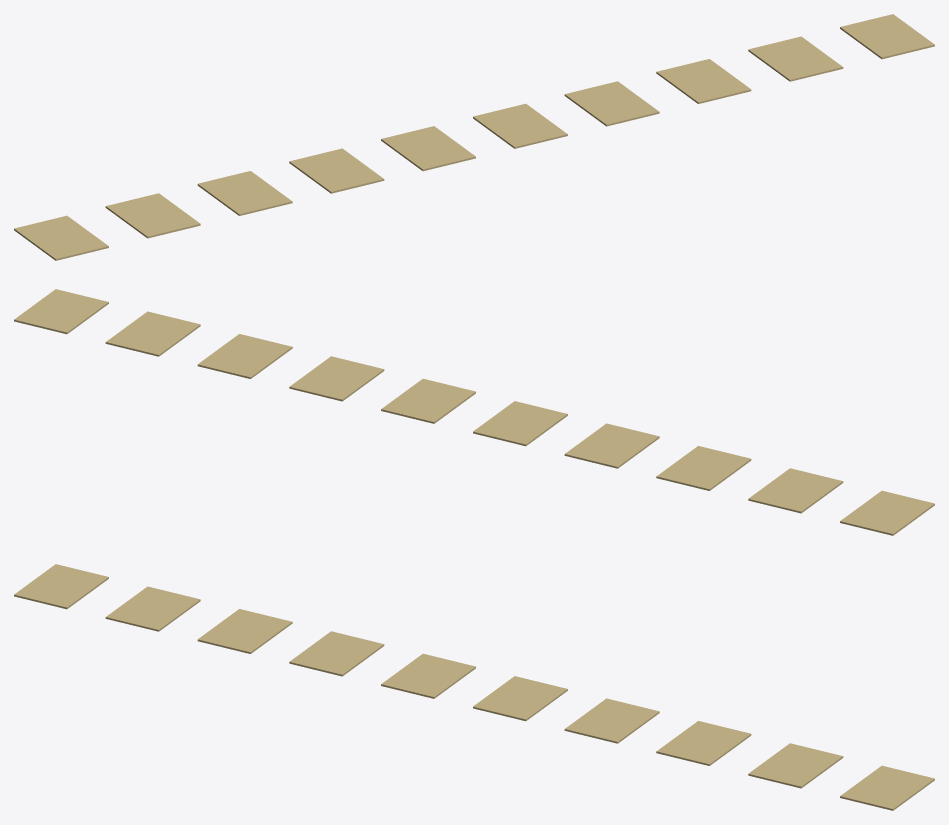
File: 198_L113_ReturnTestPads_1.glb
3 renders of one model, top to bottom at view 1: azimuth 30°, elevation 25°; view 2: azimuth 150°, elevation 25°; view 3: azimuth 330°, elevation 25°, orthographic.
Parts seen in each view (by area): view 1: part0001__PSMAT__Gold_ENIG, part0003__PSMAT__Gold_ENIG, part0006__PSMAT__Gold_ENIG, part0008__PSMAT__Gold_ENIG, part0002__PSMAT__Gold_ENIG, part0007__PSMAT__Gold_ENIG, part0000__PSMAT__Gold_ENIG, part0004__PSMAT__Gold_ENIG, part0005__PSMAT__Gold_ENIG, part0009__PSMAT__Gold_ENIG; view 2: part0001__PSMAT__Gold_ENIG, part0003__PSMAT__Gold_ENIG, part0006__PSMAT__Gold_ENIG, part0008__PSMAT__Gold_ENIG, part0002__PSMAT__Gold_ENIG, part0007__PSMAT__Gold_ENIG, part0000__PSMAT__Gold_ENIG, part0004__PSMAT__Gold_ENIG, part0005__PSMAT__Gold_ENIG, part0009__PSMAT__Gold_ENIG; view 3: part0001__PSMAT__Gold_ENIG, part0003__PSMAT__Gold_ENIG, part0006__PSMAT__Gold_ENIG, part0008__PSMAT__Gold_ENIG, part0002__PSMAT__Gold_ENIG, part0007__PSMAT__Gold_ENIG, part0000__PSMAT__Gold_ENIG, part0004__PSMAT__Gold_ENIG, part0005__PSMAT__Gold_ENIG, part0009__PSMAT__Gold_ENIG.
Boxes of the visible parts, bbox=[...] form: part0001__PSMAT__Gold_ENIG: bbox=[105, 193, 200, 238]; part0003__PSMAT__Gold_ENIG: bbox=[289, 148, 384, 193]; part0006__PSMAT__Gold_ENIG: bbox=[564, 81, 659, 126]; part0008__PSMAT__Gold_ENIG: bbox=[748, 36, 843, 81]; part0002__PSMAT__Gold_ENIG: bbox=[197, 171, 292, 215]; part0007__PSMAT__Gold_ENIG: bbox=[656, 59, 751, 103]; part0000__PSMAT__Gold_ENIG: bbox=[14, 215, 108, 260]; part0004__PSMAT__Gold_ENIG: bbox=[381, 126, 475, 171]; part0005__PSMAT__Gold_ENIG: bbox=[473, 103, 567, 148]; part0009__PSMAT__Gold_ENIG: bbox=[840, 14, 934, 59]; part0001__PSMAT__Gold_ENIG: bbox=[748, 468, 843, 513]; part0003__PSMAT__Gold_ENIG: bbox=[564, 423, 659, 468]; part0006__PSMAT__Gold_ENIG: bbox=[289, 356, 384, 401]; part0008__PSMAT__Gold_ENIG: bbox=[105, 311, 200, 356]; part0002__PSMAT__Gold_ENIG: bbox=[656, 446, 751, 490]; part0007__PSMAT__Gold_ENIG: bbox=[197, 334, 292, 378]; part0000__PSMAT__Gold_ENIG: bbox=[840, 490, 934, 535]; part0004__PSMAT__Gold_ENIG: bbox=[473, 401, 567, 446]; part0005__PSMAT__Gold_ENIG: bbox=[381, 378, 475, 423]; part0009__PSMAT__Gold_ENIG: bbox=[14, 289, 108, 334]; part0001__PSMAT__Gold_ENIG: bbox=[105, 586, 200, 631]; part0003__PSMAT__Gold_ENIG: bbox=[289, 631, 384, 676]; part0006__PSMAT__Gold_ENIG: bbox=[564, 698, 659, 743]; part0008__PSMAT__Gold_ENIG: bbox=[748, 743, 843, 788]; part0002__PSMAT__Gold_ENIG: bbox=[197, 609, 292, 653]; part0007__PSMAT__Gold_ENIG: bbox=[656, 721, 751, 765]; part0000__PSMAT__Gold_ENIG: bbox=[14, 564, 108, 609]; part0004__PSMAT__Gold_ENIG: bbox=[381, 653, 475, 698]; part0005__PSMAT__Gold_ENIG: bbox=[473, 676, 567, 721]; part0009__PSMAT__Gold_ENIG: bbox=[840, 765, 934, 810].
Bounding box in the file's own units: 0.0364 × 7e-05 × 0.003.
